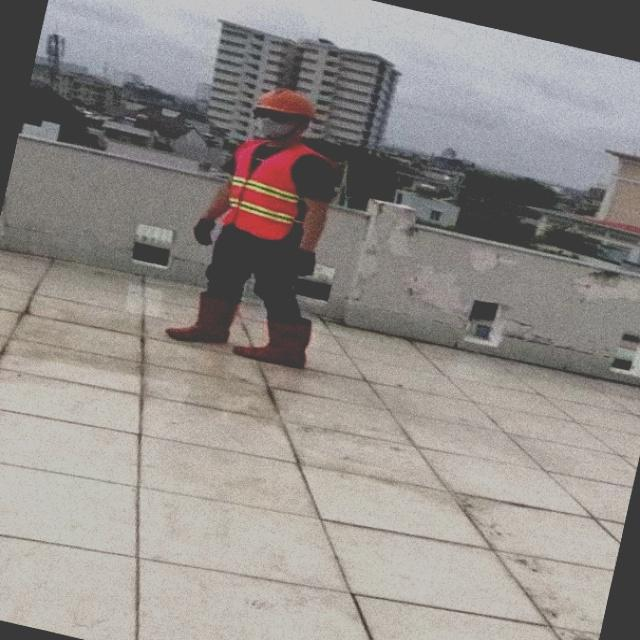helmet: (247, 76, 318, 126)
safety_vest: (205, 121, 331, 253)
